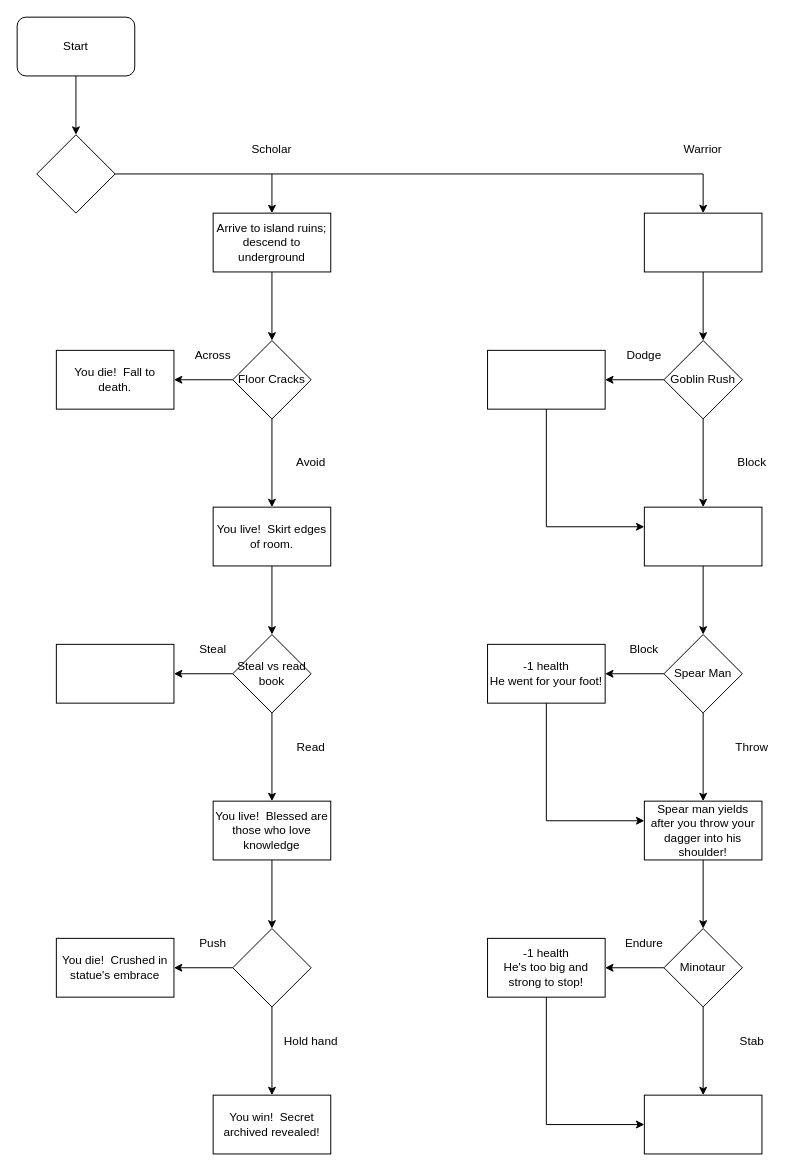
Some shapes in this 799 by 1171 pixel diagram are drawn without their labels. The centre of each missing label's shape, as x and y in pixels:
"-1 health He's too fast!" goes at pixel 546 379.
"Arrive to coliseum; prepare to fight" goes at pixel 702 242.
"Choose" goes at pixel 75 173.
"Excellent counter - goblin is disarmed and yields." goes at pixel 702 536.
"Minotaur yields after stab win if health > 0" goes at pixel 702 1124.
"Statue Hands" goes at pixel 271 967.
"You die! Cursed to never leave" goes at pixel 114 673.
